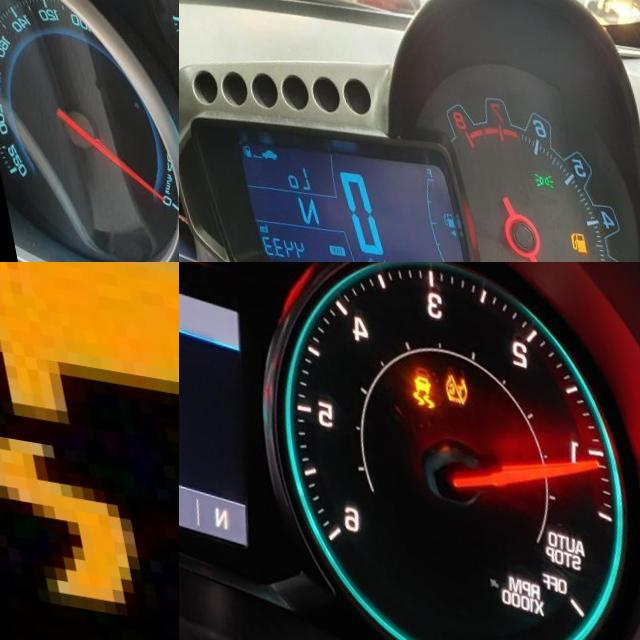Low fuel level: (558, 213, 577, 237)
SideLamp: (524, 154, 547, 174)
